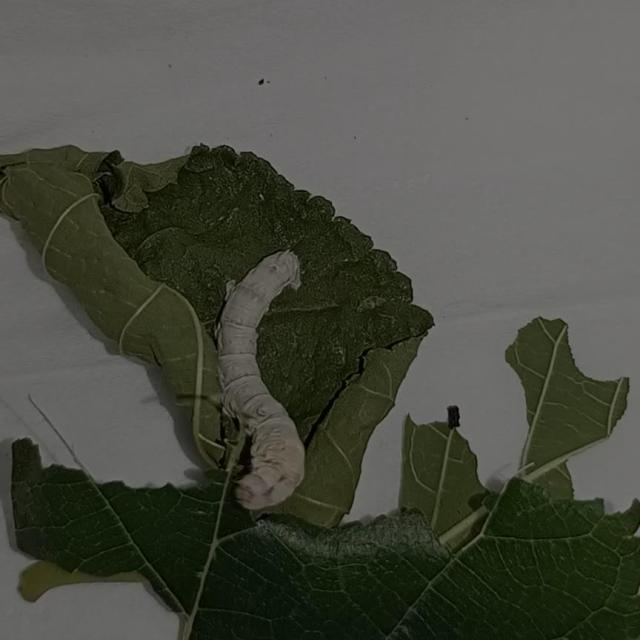Healthy: (169, 236, 366, 526)
